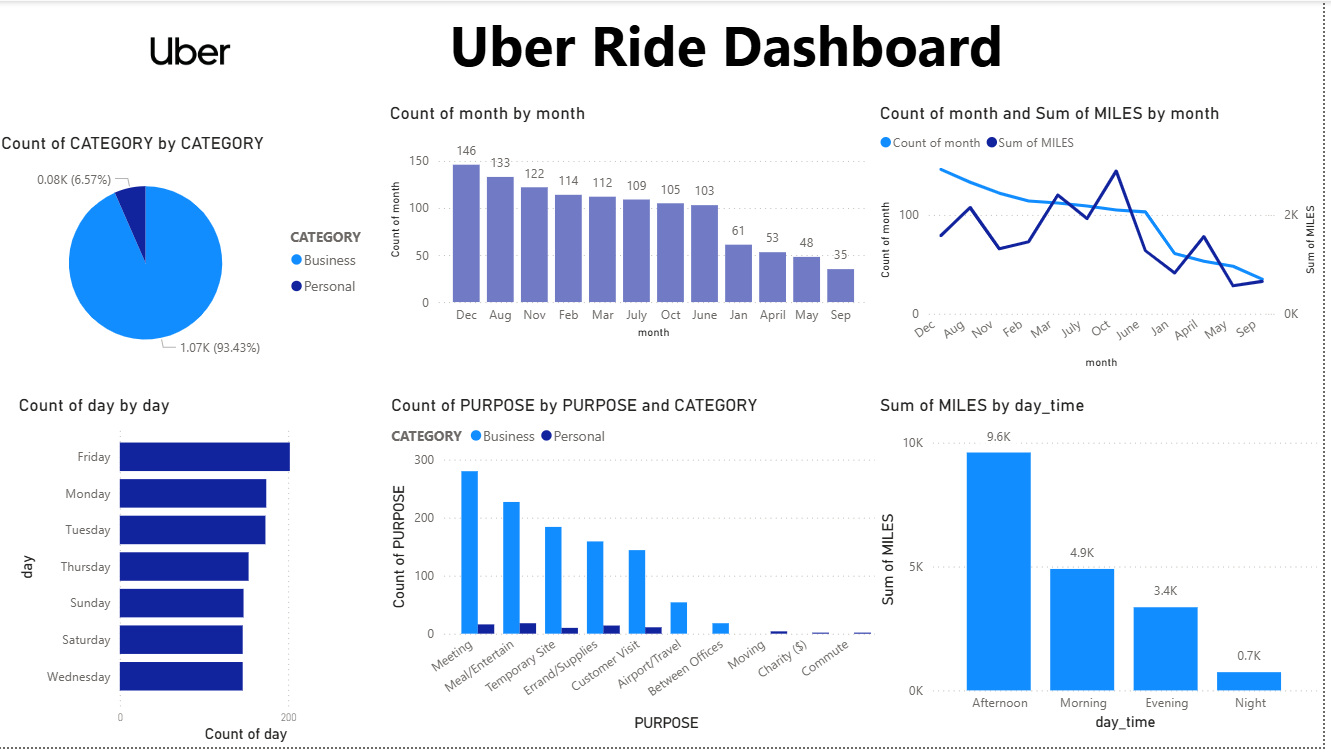

Layout of this report page (visuals, bound fields, positions):
{"tool":"powerbi","page":{"name":"Page 1","canvas":[1280,720],"ordinal":0},"visuals":[{"type":"image","box":[0,0,375.7,97.1],"z":0},{"type":"pieChart","fields":{"Category":["UberDatasetCleaned.CATEGORY"],"Y":["CountNonNull(UberDatasetCleaned.CATEGORY)"]},"box":[0,126.2,376,233.3],"z":1000},{"type":"barChart","fields":{"Category":["UberDatasetCleaned.day"],"Y":["CountNonNull(UberDatasetCleaned.day)"]},"box":[16.5,380.1,359.5,340.3],"z":2000},{"type":"clusteredColumnChart","fields":{"Category":["UberDatasetCleaned.PURPOSE"],"Y":["CountNonNull(UberDatasetCleaned.PURPOSE)"],"Series":["UberDatasetCleaned.CATEGORY"]},"box":[376,380.1,489.9,329.3],"z":3000},{"type":"textbox","box":[363.6,0,683.4,87.8],"z":4000},{"type":"columnChart","fields":{"Category":["UberDatasetCleaned.month"],"Y":["CountNonNull(UberDatasetCleaned.month)"]},"box":[375.2,97.7,471.7,232.8],"z":5000},{"type":"lineChart","fields":{"Category":["UberDatasetCleaned.month"],"Y":["CountNonNull(UberDatasetCleaned.month)"],"Y2":["Sum(UberDatasetCleaned.MILES)"]},"box":[848,97.4,432.2,262.1],"z":6000},{"type":"lineClusteredColumnComboChart","fields":{"Category":["UberDatasetCleaned.day_time"],"Y":["Sum(UberDatasetCleaned.MILES)"]},"box":[848,380.1,432.2,329.3],"z":7000}]}

Visuals, with their boxes in screenshot pixels (x1, y1, x2, y2), scaled from the page's 1280x720 canvas onto the 1331x752 screenshot:
image: left=0, top=0, right=391, bottom=101
pieChart - UberDatasetCleaned.CATEGORY x CountNonNull(UberDatasetCleaned.CATEGORY): left=0, top=132, right=391, bottom=375
barChart - UberDatasetCleaned.day x CountNonNull(UberDatasetCleaned.day): left=17, top=397, right=391, bottom=751
clusteredColumnChart - UberDatasetCleaned.PURPOSE x CountNonNull(UberDatasetCleaned.PURPOSE): left=391, top=397, right=900, bottom=741
textbox: left=378, top=0, right=1089, bottom=92
columnChart - UberDatasetCleaned.month x CountNonNull(UberDatasetCleaned.month): left=390, top=102, right=881, bottom=345
lineChart - UberDatasetCleaned.month x CountNonNull(UberDatasetCleaned.month): left=882, top=102, right=1330, bottom=375
lineClusteredColumnComboChart - UberDatasetCleaned.day_time x Sum(UberDatasetCleaned.MILES): left=882, top=397, right=1330, bottom=741
